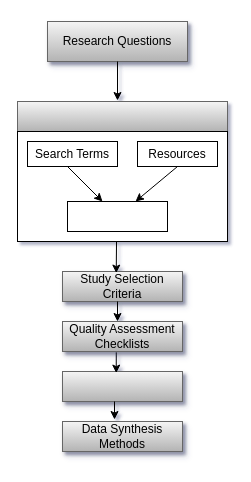
Image size: 251x482. Some labels were removed from this diagram. Each missing label, with the centre of its shape:
Data Extraction Forms: (123,387)
Search Process: (117,216)
Search Strategy: (122,116)
